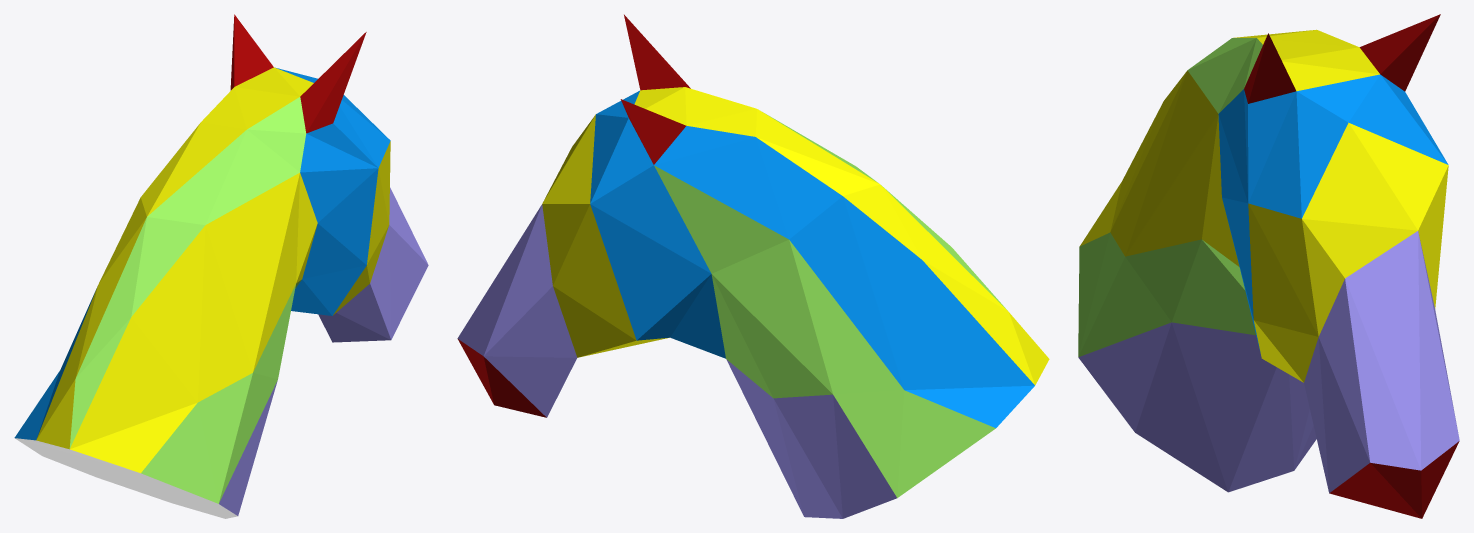
File: buste_cheval120.obj
The picture shows the model from 3 angles, left to right: view 1: azimuth 30°, elevation 25°; view 2: azimuth 150°, elevation 25°; view 3: azimuth 270°, elevation 25°; orthographic projection. The views are drawn at different scales.
Parts seen in each view (by area): view 1: unnamed_object1_color_256_256_001, unnamed_object1_color_163_254_102, unnamed_object1_color_000_153_256, unnamed_object1_color_163_153_256, unnamed_object1_color_163_000_000, unnamed_object1_color_256_256_256; view 2: unnamed_object1_color_000_153_256, unnamed_object1_color_163_254_102, unnamed_object1_color_256_256_001, unnamed_object1_color_163_153_256, unnamed_object1_color_163_000_000; view 3: unnamed_object1_color_163_153_256, unnamed_object1_color_256_256_001, unnamed_object1_color_000_153_256, unnamed_object1_color_163_254_102, unnamed_object1_color_163_000_000.
Boxes of the visible parts, left/top/right/bottom form: unnamed_object1_color_256_256_001: left=36, top=67, right=390, bottom=473; unnamed_object1_color_163_254_102: left=69, top=97, right=306, bottom=503; unnamed_object1_color_000_153_256: left=14, top=67, right=390, bottom=440; unnamed_object1_color_163_153_256: left=219, top=187, right=428, bottom=515; unnamed_object1_color_163_000_000: left=230, top=14, right=366, bottom=133; unnamed_object1_color_256_256_256: left=14, top=438, right=237, bottom=518; unnamed_object1_color_000_153_256: left=590, top=90, right=1034, bottom=427; unnamed_object1_color_163_254_102: left=654, top=112, right=1007, bottom=497; unnamed_object1_color_256_256_001: left=542, top=87, right=1049, bottom=385; unnamed_object1_color_163_153_256: left=457, top=204, right=896, bottom=518; unnamed_object1_color_163_000_000: left=458, top=14, right=690, bottom=417; unnamed_object1_color_163_153_256: left=1078, top=231, right=1459, bottom=493; unnamed_object1_color_256_256_001: left=1079, top=29, right=1448, bottom=382; unnamed_object1_color_000_153_256: left=1218, top=74, right=1448, bottom=354; unnamed_object1_color_163_254_102: left=1078, top=38, right=1262, bottom=356; unnamed_object1_color_163_000_000: left=1244, top=14, right=1459, bottom=518.
Size of the model in its own units: 211 by 190 by 118.
